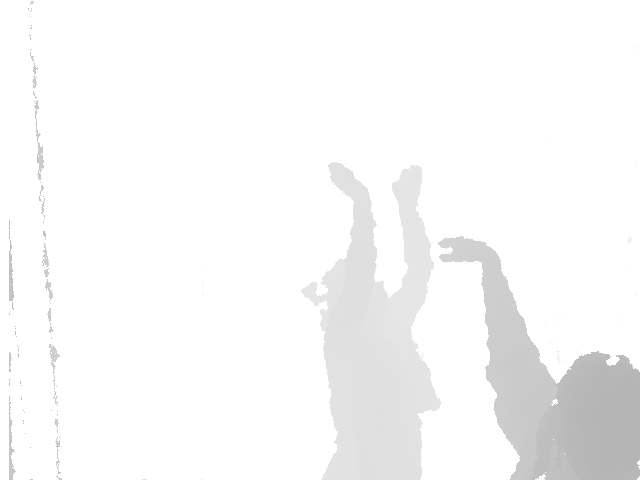hand: (437, 237, 500, 269), (328, 161, 370, 198), (391, 164, 423, 205)
head: (540, 353, 640, 480), (301, 255, 387, 318)
person: (437, 237, 640, 480), (301, 161, 442, 480)
